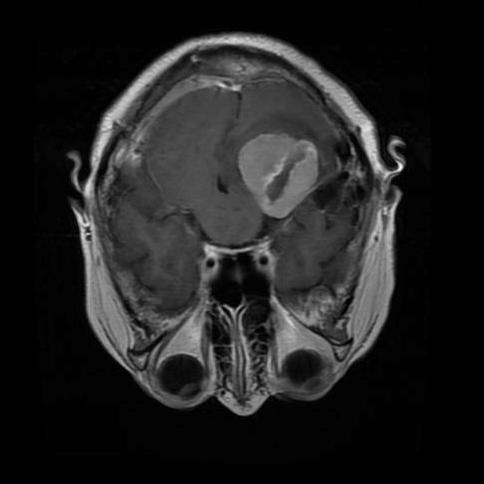Tumour-Meningioma: (214, 129, 349, 223)
